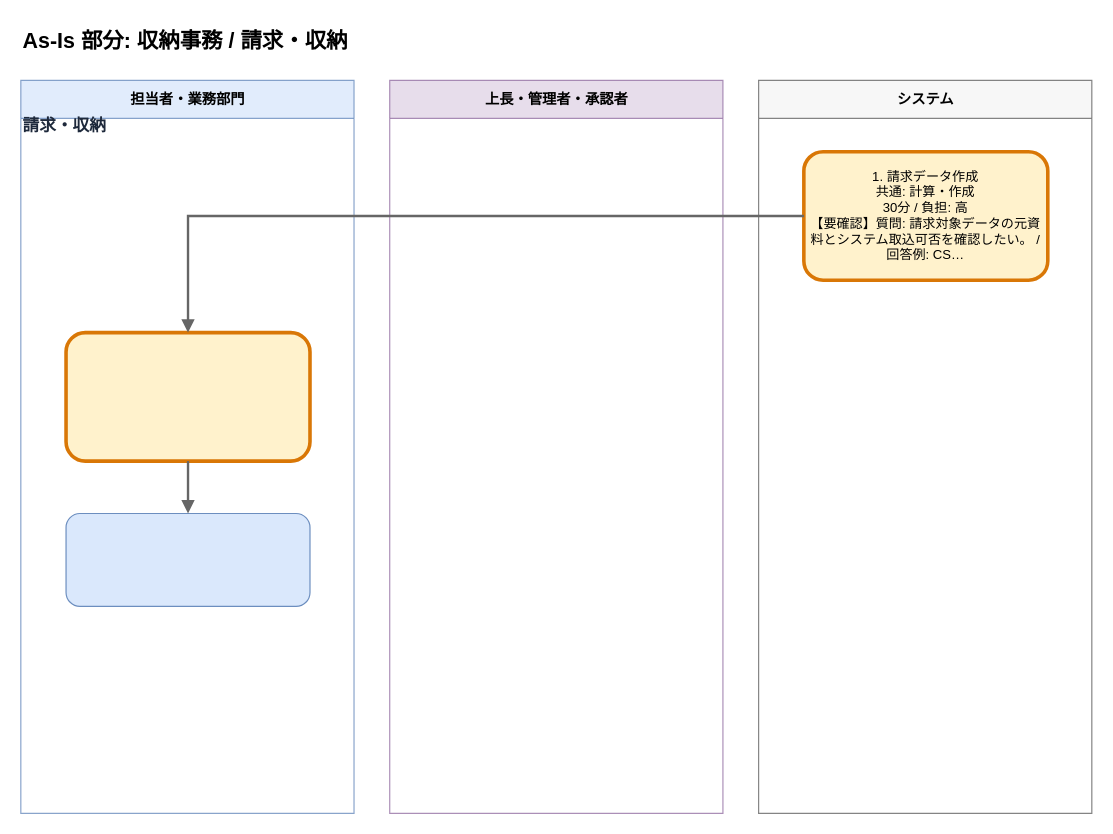
The diagram is 1113 pixels wide and 834 high, and some of its shapes have lost their labels. The centre of each missing label's shape, as x and y in pixels:
"2. 請求内容確認 共通: 内容確認 20分 / 負担: 高 【要確認】質問: 請求内容の二重チェック担当と承認有無を確認したい。 / 回答例: 担当者が…" goes at (187,396).
"3. 請求書発行 共通: 実行・支払 15分 / 負担: 中" goes at (187,559).
